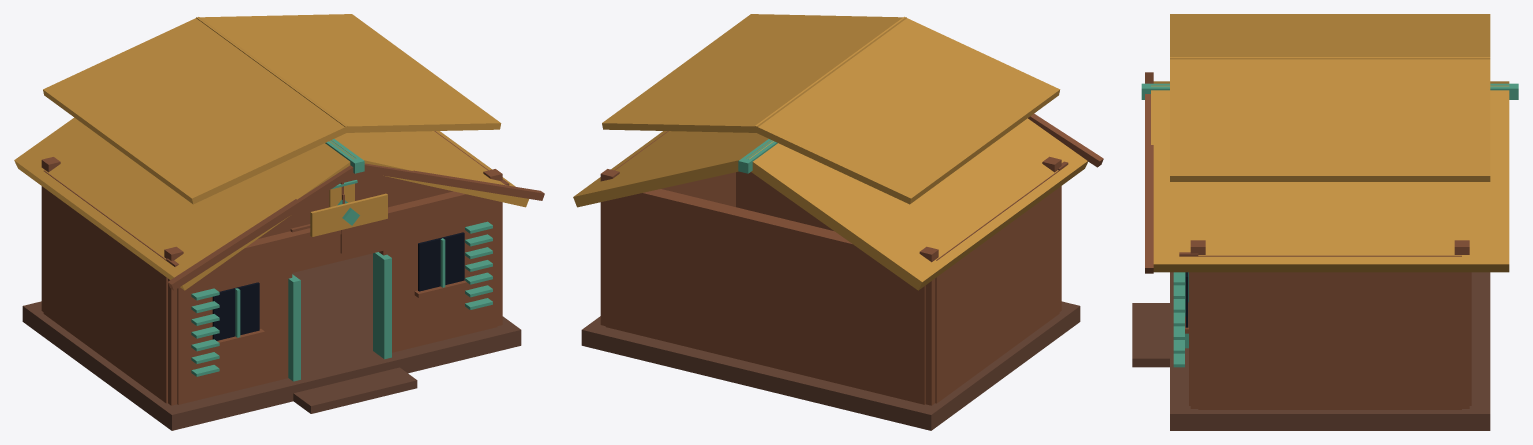
Rendered from hall_orc_lv1.glb.
The picture shows the model from 3 angles, left to right: view 1: azimuth 30°, elevation 25°; view 2: azimuth 150°, elevation 25°; view 3: azimuth 270°, elevation 25°; orthographic projection. The views are drawn at different scales.
Parts seen in each view (by area): view 1: hall_orc_lv1; view 2: hall_orc_lv1; view 3: hall_orc_lv1.
Part boxes in pixels (x1,y1,x2,y2): hall_orc_lv1: (14,14,544,430); hall_orc_lv1: (573,14,1103,430); hall_orc_lv1: (1132,14,1518,430).
Size of the model in its own units: 24.56 by 16.49 by 20.5.
